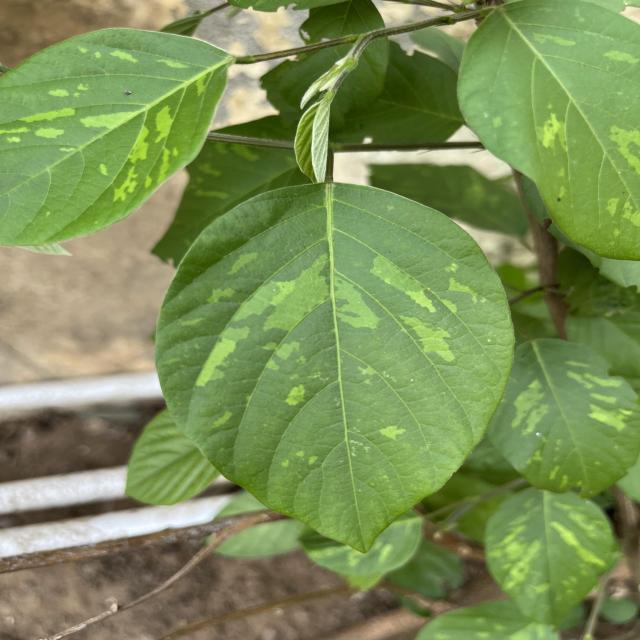Desmodium gangeticum: (146, 180, 521, 556), (0, 22, 242, 252)
